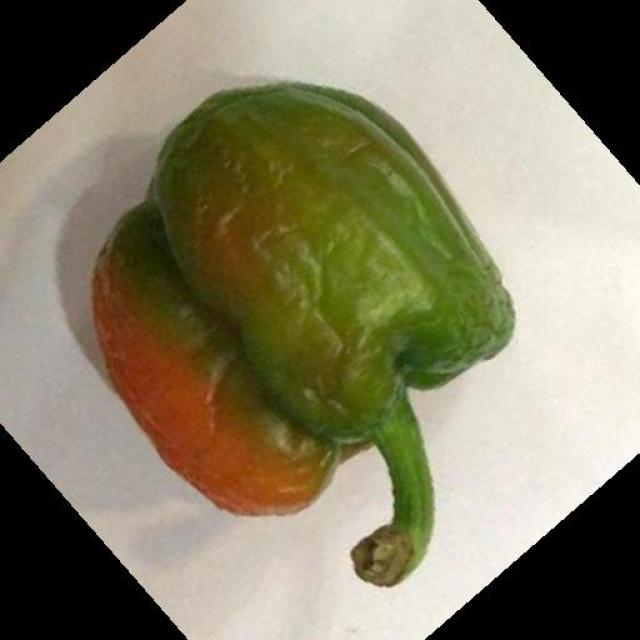Stale_Capsicum: (79, 83, 497, 523)
